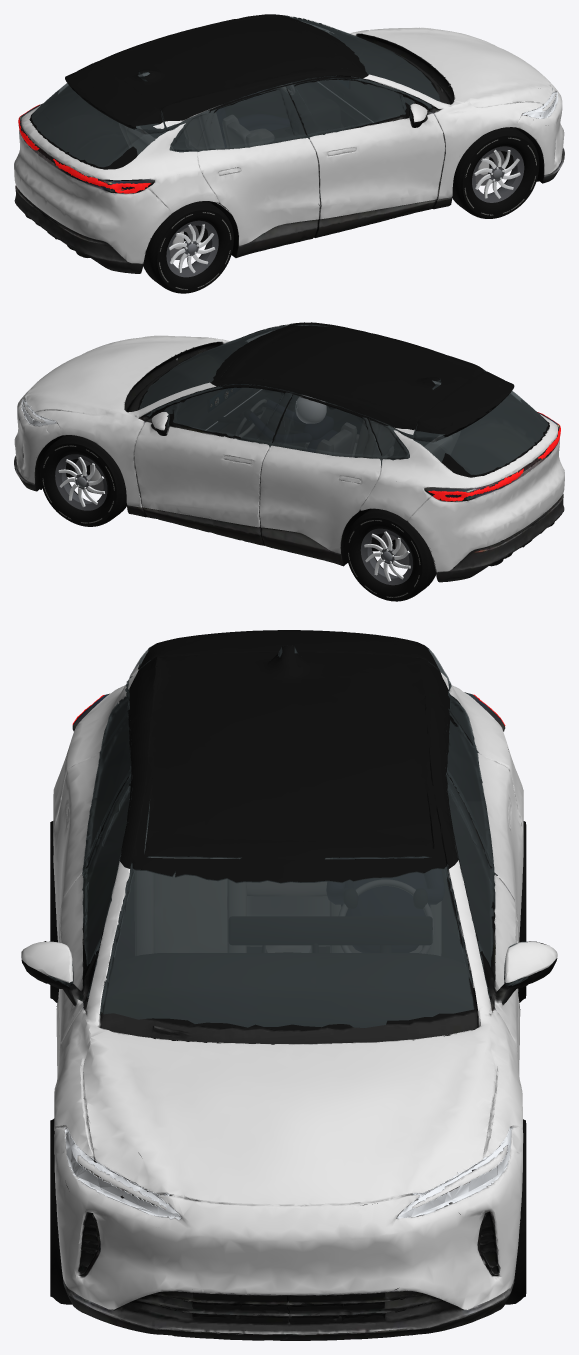
File: rp1_vanta.glb
3 renders of one model, top to bottom at view 1: azimuth 30°, elevation 25°; view 2: azimuth 150°, elevation 25°; view 3: azimuth 270°, elevation 25°, orthographic. The views are drawn at different scales.
Parts seen in each view (by area): view 1: body, glass, interior, window_R, tyre_RR, tyre_FR, rim_FR, rim_RR, driver, taillight_lens, headlight_lens; view 2: body, glass, interior, window_L, tyre_RL, tyre_FL, driver, rim_FL, rim_RL, taillight_lens; view 3: body, glass, interior, headlight_lens, window_R, window_L, driver, tyre_FR, tyre_FL.
Part boxes in pixels (left/top/right/bottom): body: left=14, top=14, right=564, bottom=273; glass: left=31, top=17, right=440, bottom=167; interior: left=119, top=76, right=405, bottom=154; window_R: left=286, top=74, right=417, bottom=138; tyre_RR: left=143, top=201, right=233, bottom=293; tyre_FR: left=452, top=127, right=539, bottom=218; rim_FR: left=472, top=146, right=524, bottom=202; rim_RR: left=166, top=220, right=218, bottom=277; driver: left=216, top=89, right=289, bottom=147; taillight_lens: left=18, top=104, right=150, bottom=193; headlight_lens: left=522, top=88, right=558, bottom=118; body: left=14, top=322, right=564, bottom=582; glass: left=139, top=325, right=547, bottom=474; interior: left=173, top=384, right=460, bottom=464; window_L: left=160, top=384, right=292, bottom=446; tyre_RL: left=345, top=508, right=435, bottom=601; tyre_FL: left=40, top=435, right=126, bottom=526; driver: left=244, top=395, right=337, bottom=452; rim_FL: left=55, top=454, right=107, bottom=510; rim_RL: left=360, top=528, right=412, bottom=585; taillight_lens: left=428, top=412, right=560, bottom=501; body: left=21, top=630, right=557, bottom=1340; glass: left=48, top=646, right=528, bottom=1027; interior: left=100, top=828, right=473, bottom=1027; headlight_lens: left=64, top=1127, right=513, bottom=1220; window_R: left=50, top=774, right=150, bottom=982; window_L: left=444, top=773, right=527, bottom=985; driver: left=326, top=857, right=444, bottom=952; tyre_FR: left=50, top=1118, right=72, bottom=1304; tyre_FL: left=505, top=1119, right=526, bottom=1304.
Bounding box in the file's own units: 4.6 × 1.58 × 2.15.
Materials: 10 (7 with a texture image).
